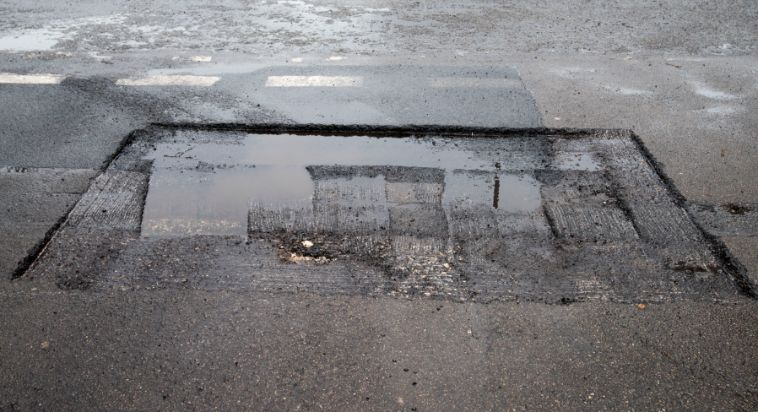pothole: (6, 112, 749, 312)
